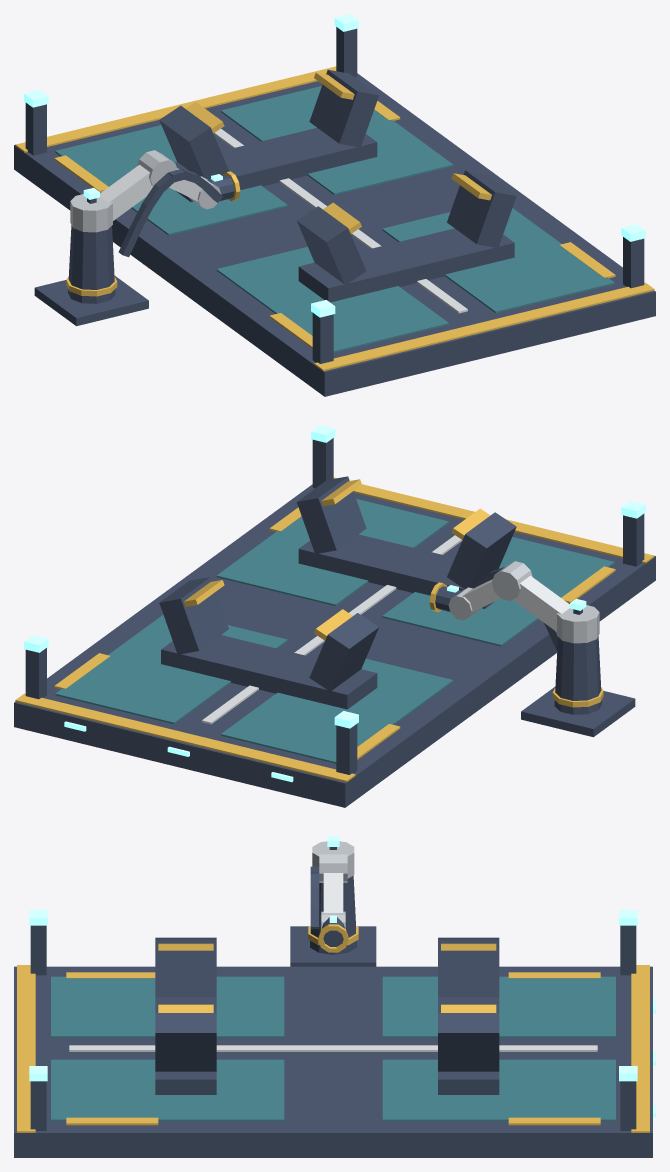
3 views of the same model, one above another, from view 1: azimuth 30°, elevation 25°; view 2: azimuth 150°, elevation 25°; view 3: azimuth 270°, elevation 25° (orthographic). The views are drawn at different scales.
Parts seen in each view (by area): view 1: DL014_DockingPadSet_graphite_navy, DL014_DockingPadSet_teal_shell, DL014_DockingPadSet_amber_accent, DL014_DockingPadSet_hull_offwhite, DL014_DockingPadSet_titanium, DL014_DockingPadSet_emissive_cyan; view 2: DL014_DockingPadSet_graphite_navy, DL014_DockingPadSet_teal_shell, DL014_DockingPadSet_amber_accent, DL014_DockingPadSet_hull_offwhite, DL014_DockingPadSet_titanium, DL014_DockingPadSet_emissive_cyan; view 3: DL014_DockingPadSet_graphite_navy, DL014_DockingPadSet_teal_shell, DL014_DockingPadSet_amber_accent, DL014_DockingPadSet_hull_offwhite, DL014_DockingPadSet_emissive_cyan, DL014_DockingPadSet_titanium.
Boxes of the visible parts, <box> form: DL014_DockingPadSet_graphite_navy: <box>14,27,655,396</box>; DL014_DockingPadSet_teal_shell: <box>55,86,614,352</box>; DL014_DockingPadSet_amber_accent: <box>15,66,654,371</box>; DL014_DockingPadSet_hull_offwhite: <box>100,129,467,313</box>; DL014_DockingPadSet_titanium: <box>70,150,221,232</box>; DL014_DockingPadSet_emissive_cyan: <box>24,14,645,317</box>; DL014_DockingPadSet_graphite_navy: <box>14,438,655,807</box>; DL014_DockingPadSet_teal_shell: <box>55,499,614,763</box>; DL014_DockingPadSet_amber_accent: <box>15,477,654,782</box>; DL014_DockingPadSet_hull_offwhite: <box>202,535,569,724</box>; DL014_DockingPadSet_titanium: <box>448,561,599,643</box>; DL014_DockingPadSet_emissive_cyan: <box>24,425,645,782</box>; DL014_DockingPadSet_graphite_navy: <box>14,847,652,1157</box>; DL014_DockingPadSet_teal_shell: <box>51,976,615,1121</box>; DL014_DockingPadSet_amber_accent: <box>17,924,649,1132</box>; DL014_DockingPadSet_hull_offwhite: <box>69,873,597,1051</box>; DL014_DockingPadSet_emissive_cyan: <box>29,836,655,1117</box>; DL014_DockingPadSet_titanium: <box>312,841,354,928</box>.
Bounding box in the file's own units: 8.6 × 2.4 × 10.45.
